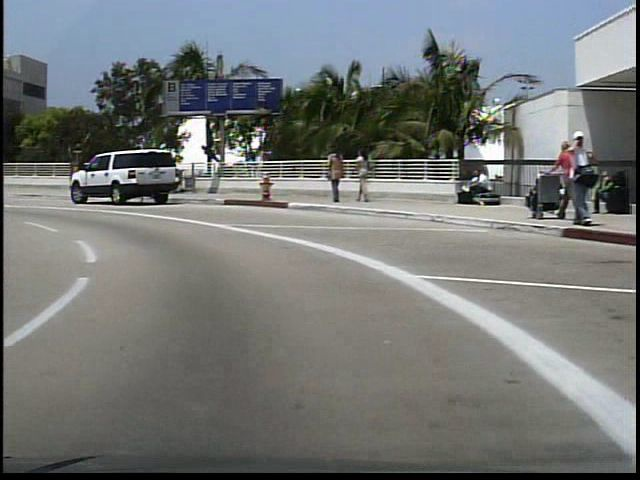person: (558, 127, 589, 226), (323, 142, 344, 207), (551, 137, 567, 222), (351, 148, 374, 206), (458, 168, 488, 207)
